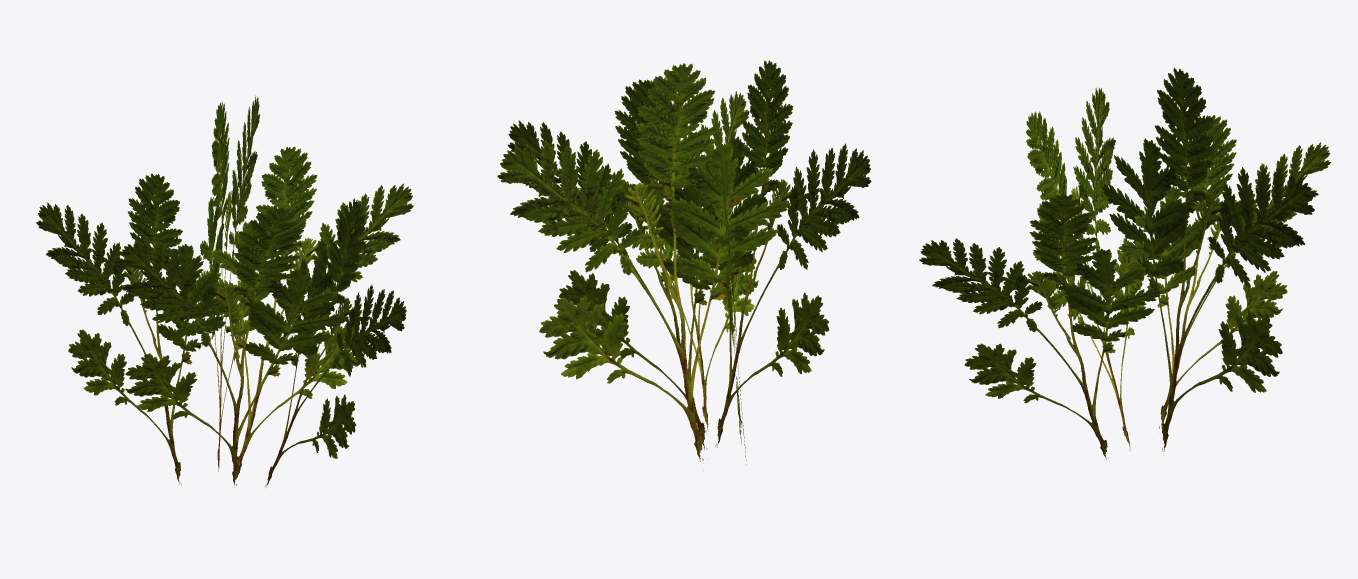
The model's file is Plant_01.FBX.
The picture shows the model from 3 angles, left to right: view 1: azimuth 30°, elevation 25°; view 2: azimuth 150°, elevation 25°; view 3: azimuth 270°, elevation 25°; orthographic projection. The views are drawn at different scales.
Visible parts, largest first — view 1: Plant_01; view 2: Plant_01; view 3: Plant_01.
Part boxes in pixels (x1,y1,x2,y2): Plant_01: [36, 95, 413, 486]; Plant_01: [497, 60, 871, 464]; Plant_01: [919, 68, 1330, 459].
Size of the model in its own units: 108 by 121 by 109.
